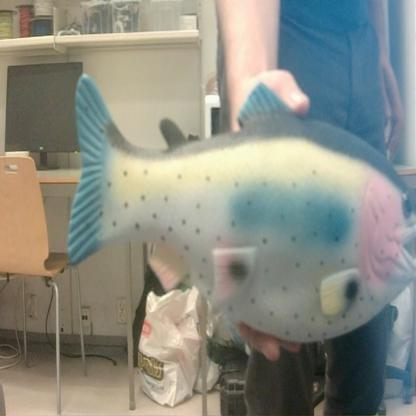rubberfish: (60, 69, 416, 349)
